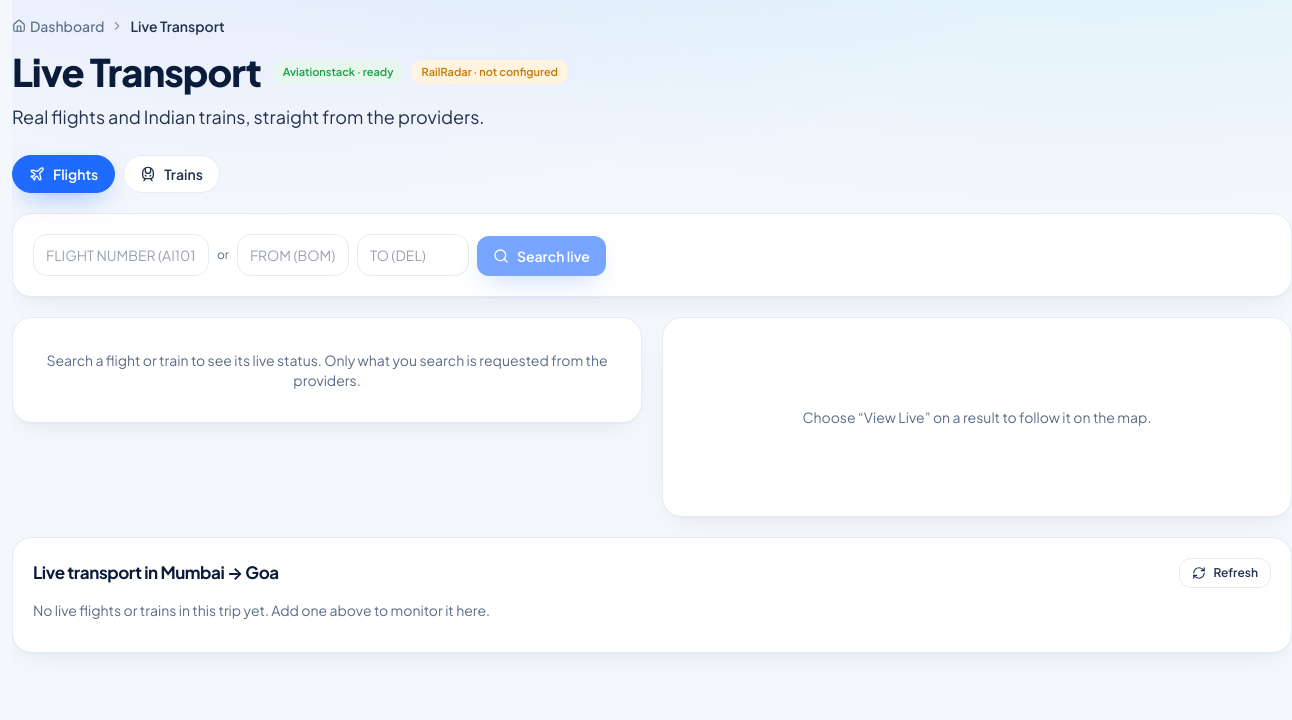
Test: LiveTransportPage › labels provider readiness and live results with their source
Expected: the text "Aviationstack · ready" is shown, [273,60,404,84]
Expected: the text "RailRadar · not configured" is shown, [412,60,568,84]
Step 1. Type "AI101" into the field labelled "Flight number" → (121, 254), box [33,234,209,276]
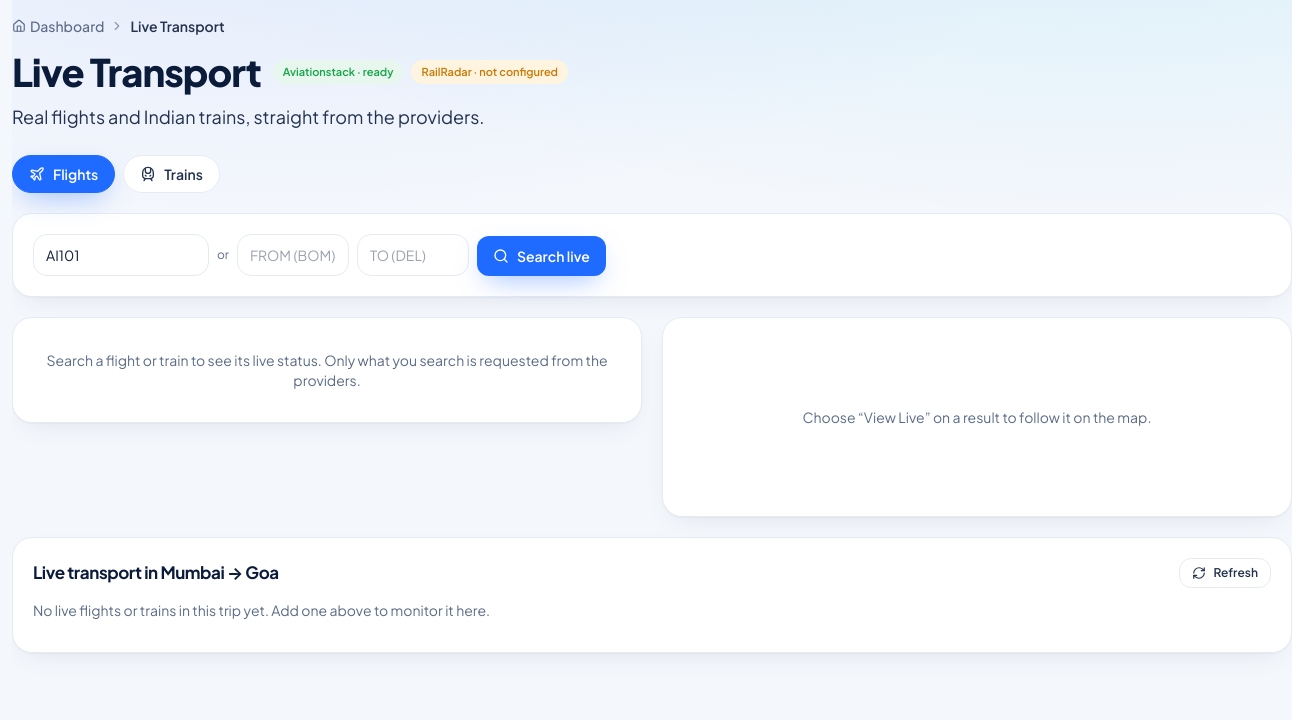
Step 2. Click the button "Search live" → (541, 256), box [477,236,606,276]
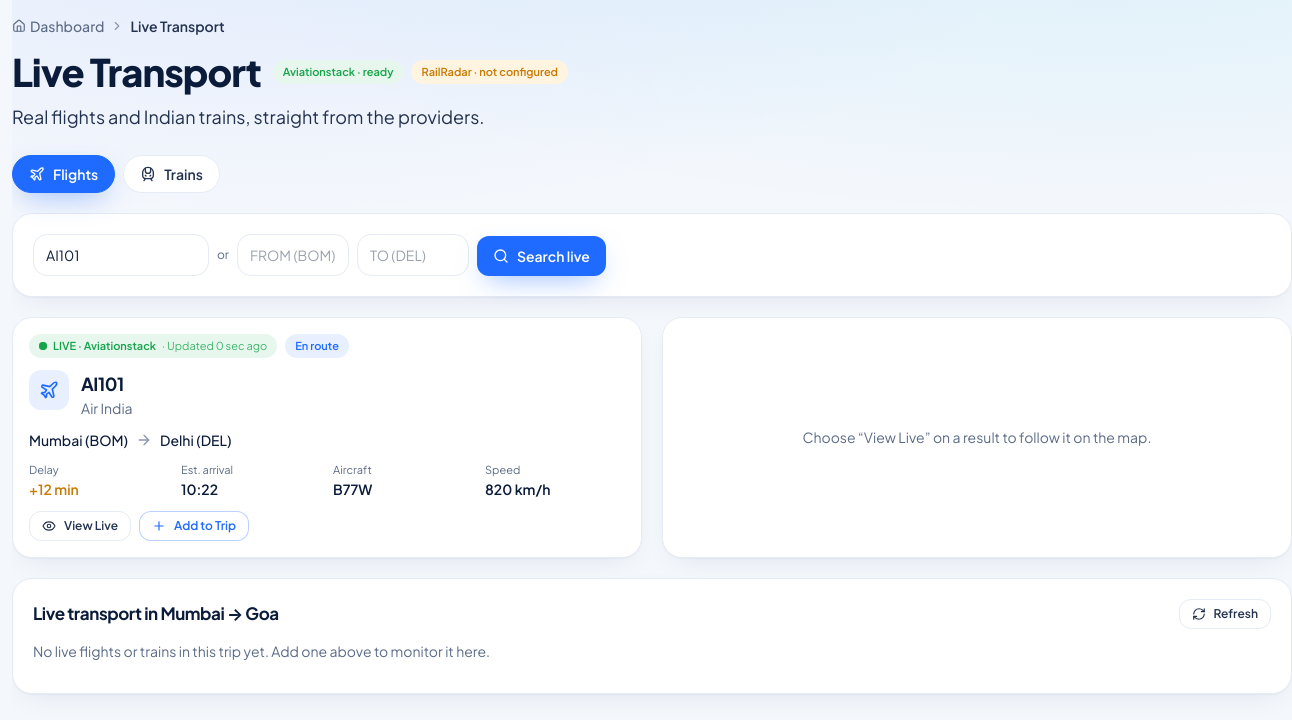
Result: the text "LIVE · Aviationstack · Updated 0 sec ago" is shown at [29,334,277,358]
Result: the text "+12 min" is shown at [29,480,79,498]
